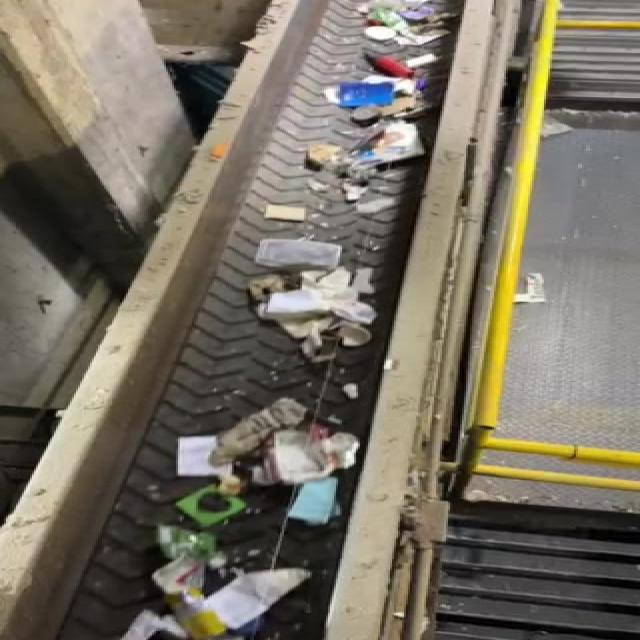pet: (206, 396, 310, 470)
pp: (250, 230, 368, 278)
